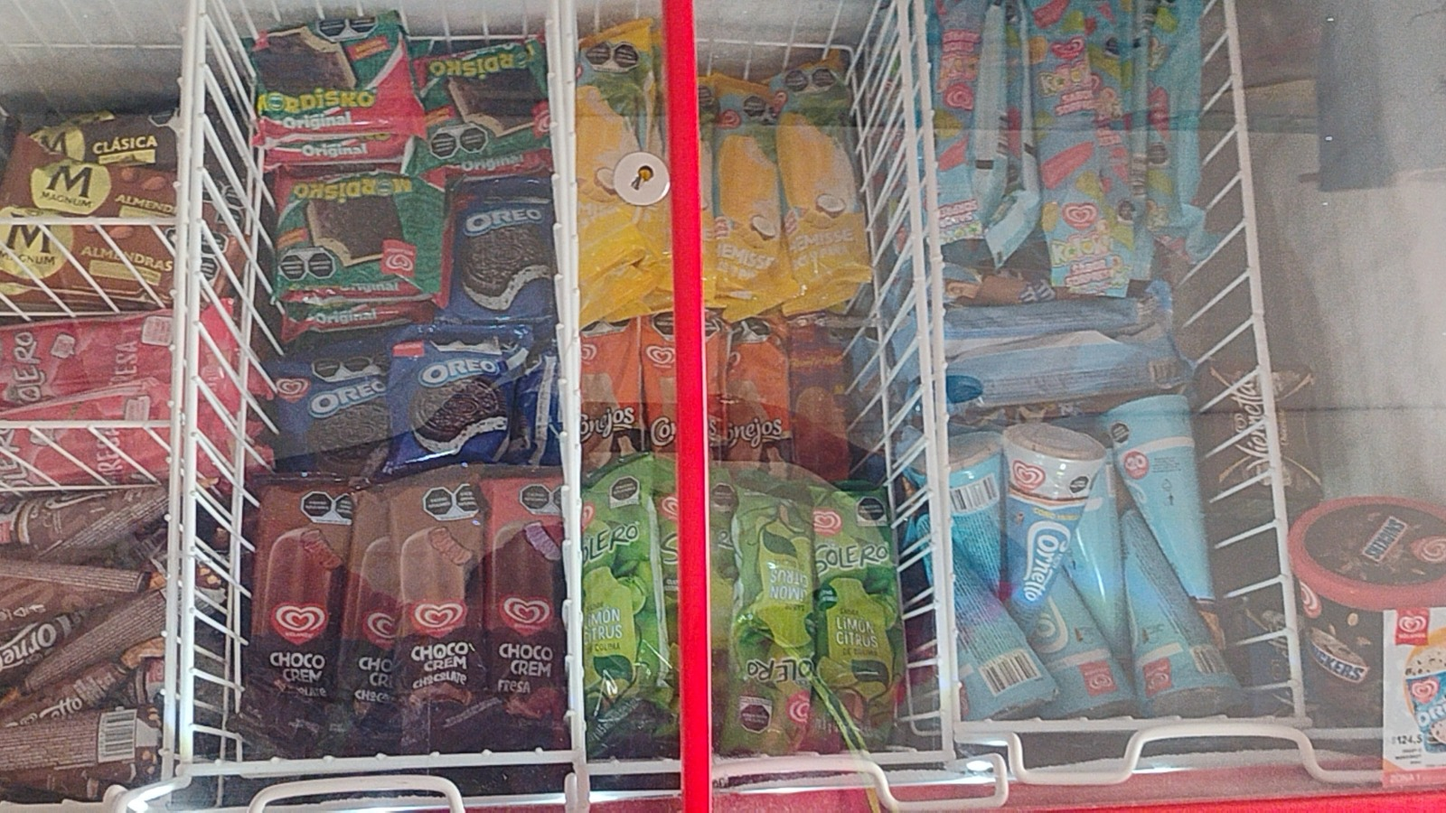rejilla: (1226, 2, 1304, 714), (902, 1, 951, 749), (918, 1, 959, 718), (164, 1, 195, 780), (554, 30, 581, 746), (184, 5, 206, 764), (564, 31, 582, 747), (184, 752, 580, 771), (957, 722, 1170, 729), (587, 764, 678, 772), (882, 754, 949, 761), (1241, 720, 1306, 724)
